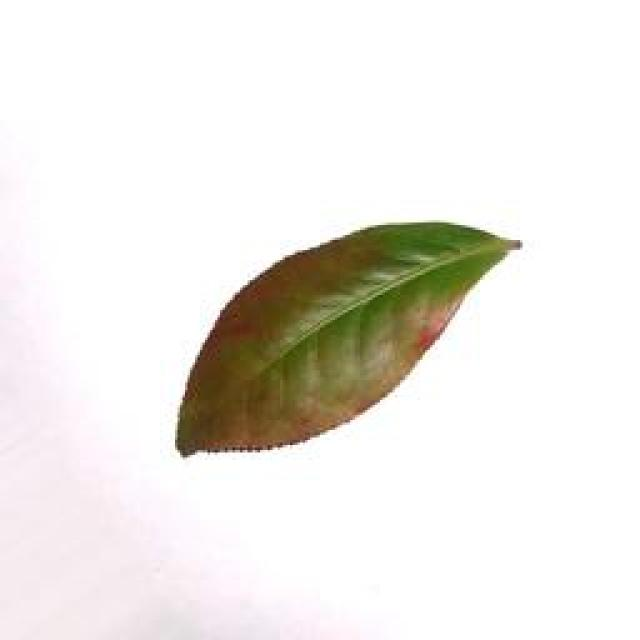Red Leaf Spot: (147, 178, 542, 480)
